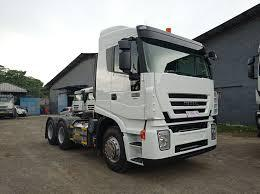truck: (91, 23, 226, 175)
